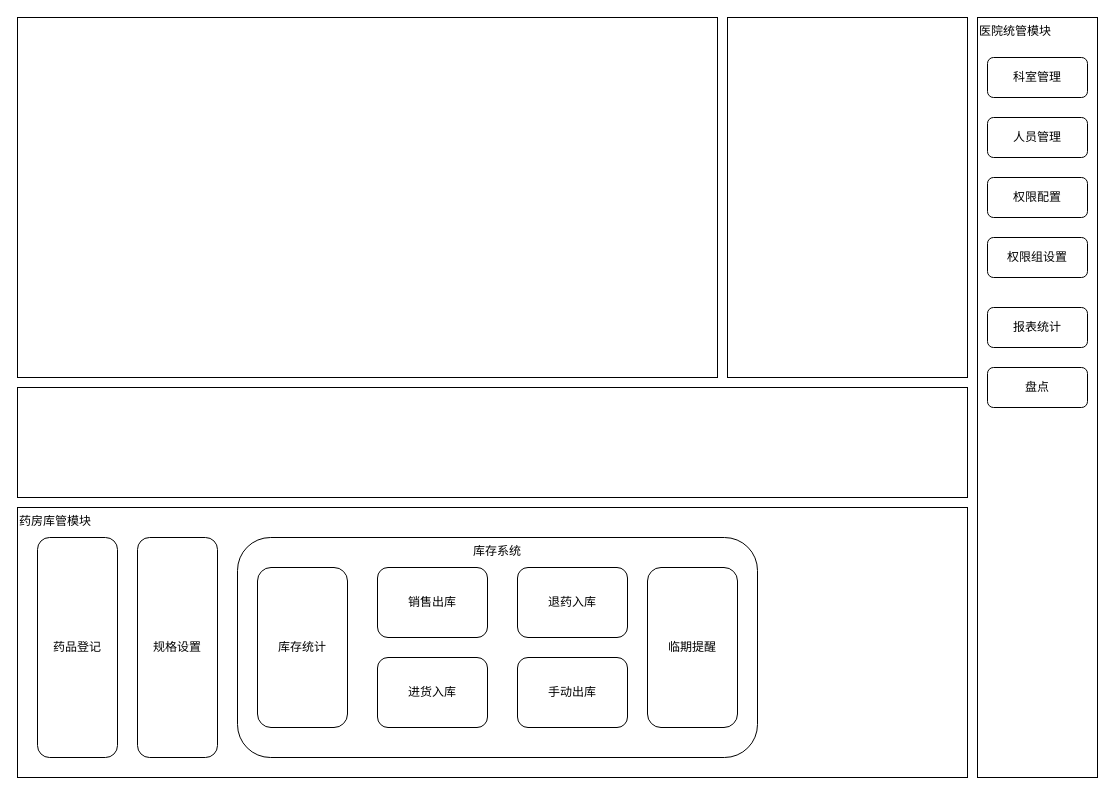
The diagram is 1115 pixels wide and 795 high, and some of its shapes have lost their labels. The shapes that lost their labels are listed below. From the top down, each one's centre as x and y in pixels, then its label:
(367,197): 门诊模块
(847,197): 住院管理
(492,442): 计财模块
